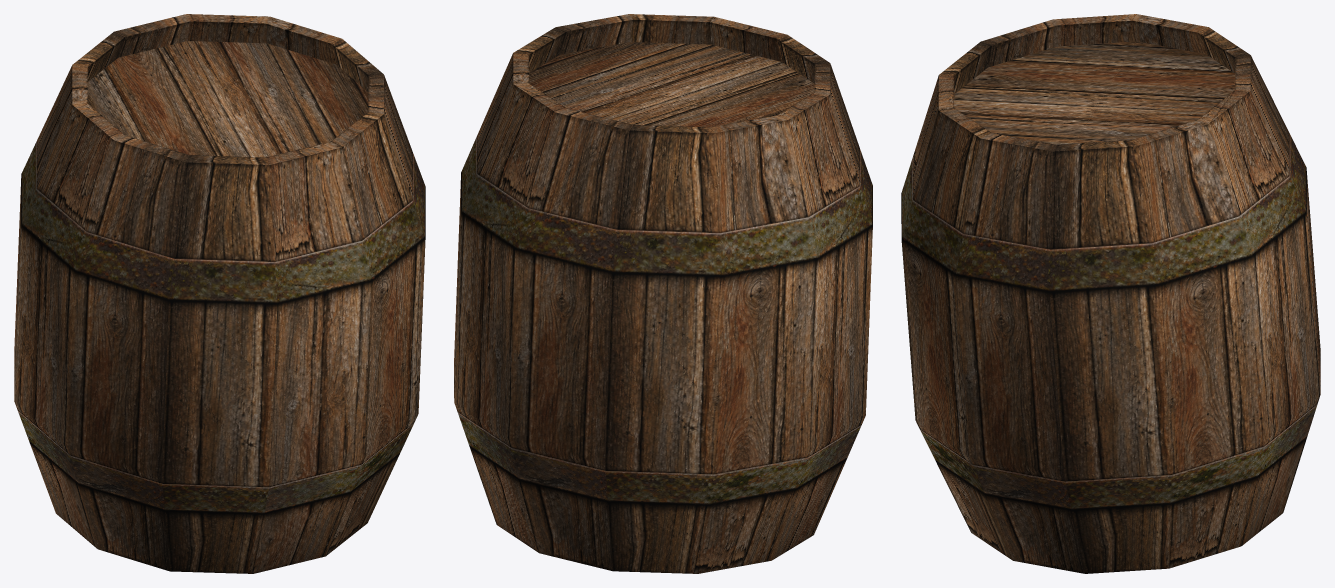
File: mm9_deco_barrelp356.glb
3 renders of one model, left to right at view 1: azimuth 30°, elevation 25°; view 2: azimuth 150°, elevation 25°; view 3: azimuth 270°, elevation 25°, orthographic.
Parts seen in each view (by area): view 1: Barrelp356; view 2: Barrelp356; view 3: Barrelp356.
Part boxes in pixels (x1,y1,x2,y2): Barrelp356: (14,14,425,573); Barrelp356: (454,14,872,573); Barrelp356: (901,14,1320,573).
Size of the model in its own units: 0.8716 by 1.05 by 0.8996.
1 material, 1 textured.
